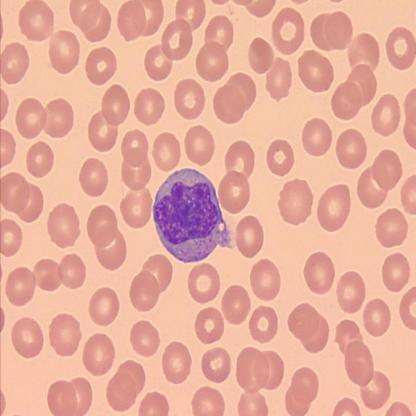Monocyte: (151, 166, 239, 266)
